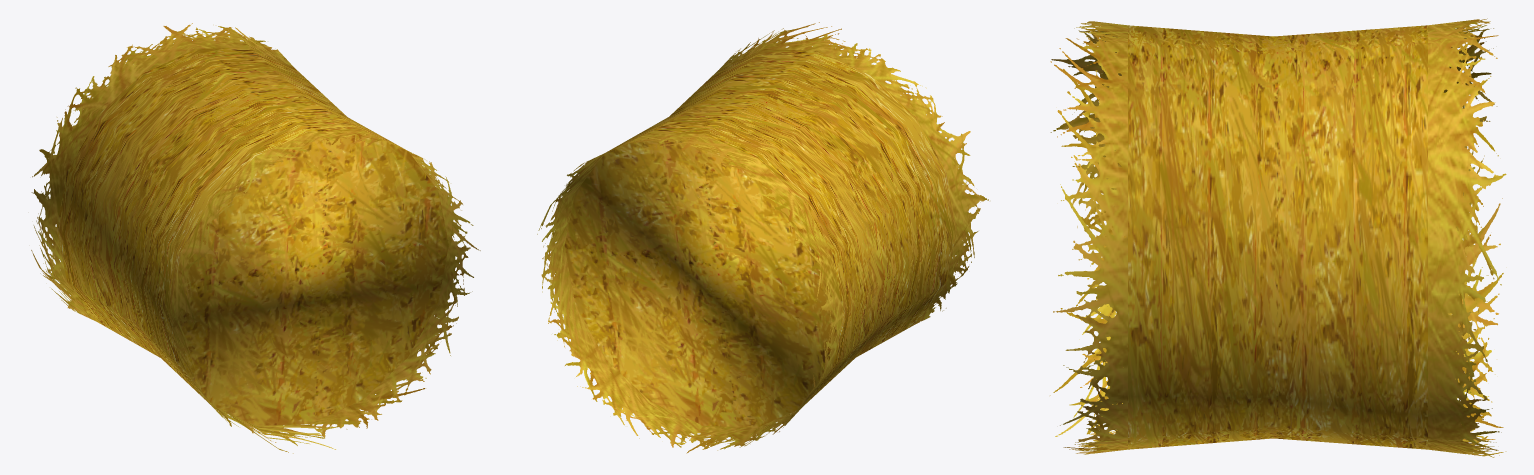
Rendered from HayBail.fbx.
The picture shows the model from 3 angles, left to right: view 1: azimuth 30°, elevation 25°; view 2: azimuth 150°, elevation 25°; view 3: azimuth 270°, elevation 25°; orthographic projection. The views are drawn at different scales.
Parts seen in each view (by area): view 1: HayBail; view 2: HayBail; view 3: HayBail.
Part boxes in pixels (x1,y1,x2,y2): HayBail: (31, 23, 480, 453); HayBail: (537, 22, 988, 453); HayBail: (1050, 18, 1506, 457).
Bounding box in the file's own units: 65.9 × 65.9 × 72.16.
